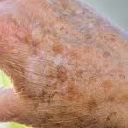Actinic: (18, 40, 70, 103)
